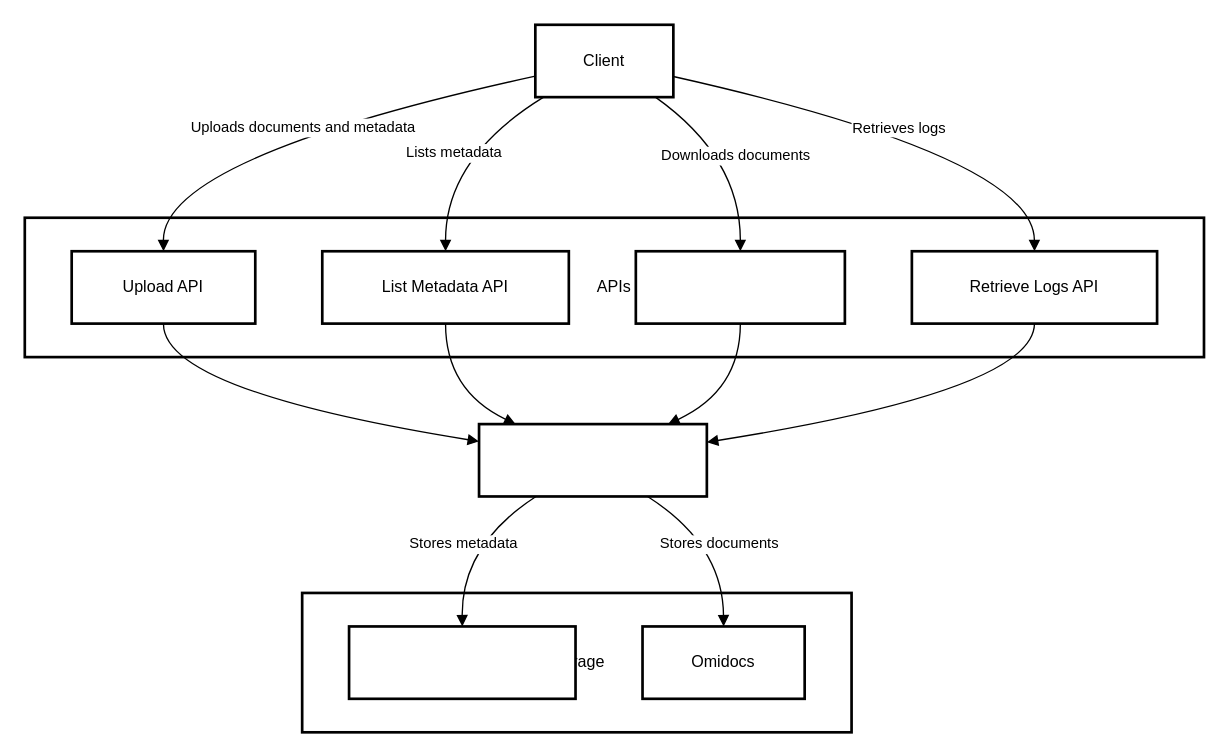
Image size: 1227x756. Some labels were removed from this diagram. Here are the shapes that lost their labels. From the top down, the centre of each, then its label:
At (x=740, y=286): "Download API".
At (x=592, y=459): "Backend Server".
At (x=461, y=661): "Metadata Store".
